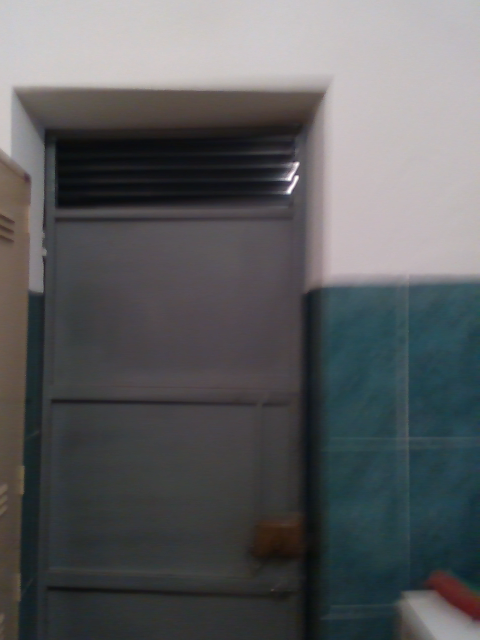closed: (15, 88, 325, 638)
